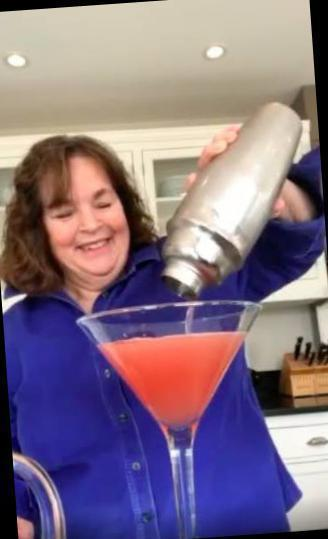Drunk: (42, 161, 127, 277)
